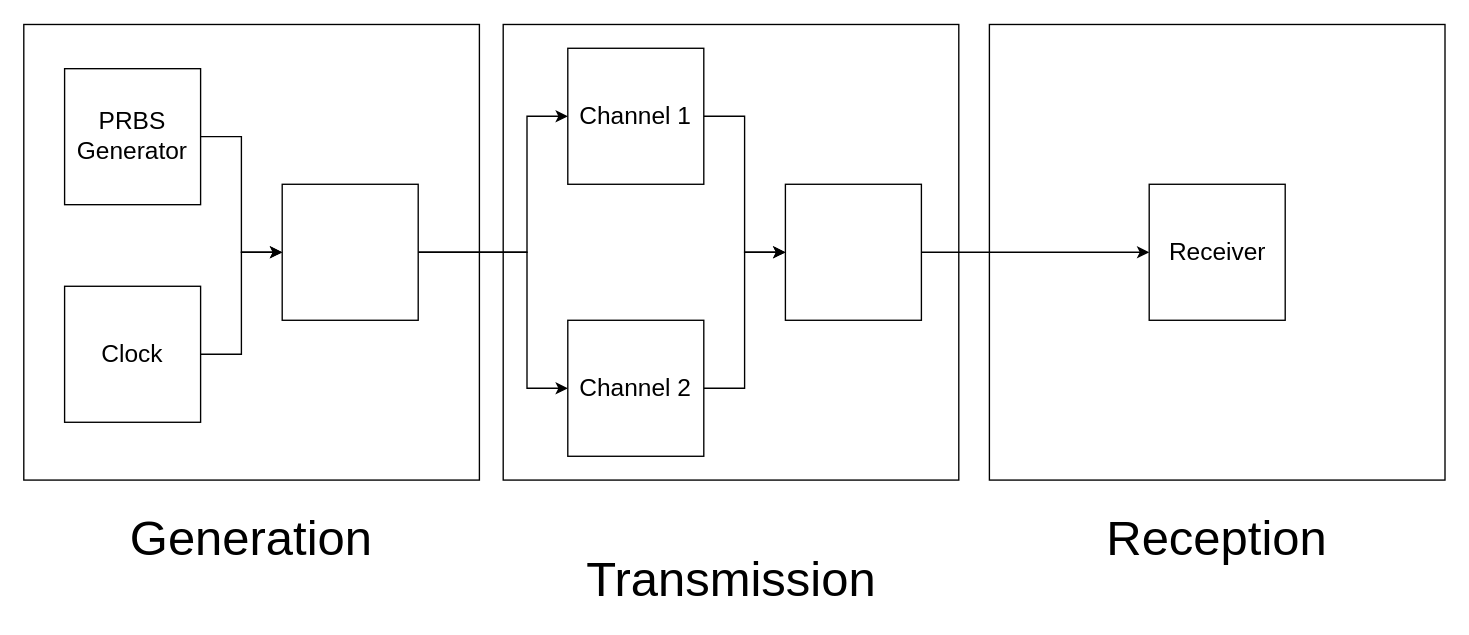
Some shapes in this 1469 by 635 pixel diagram are drawn without their labels. Each missing label, with the centre of its shape:
"Optical Muxer" belongs at point (852, 251).
"Switch" belongs at point (349, 251).
